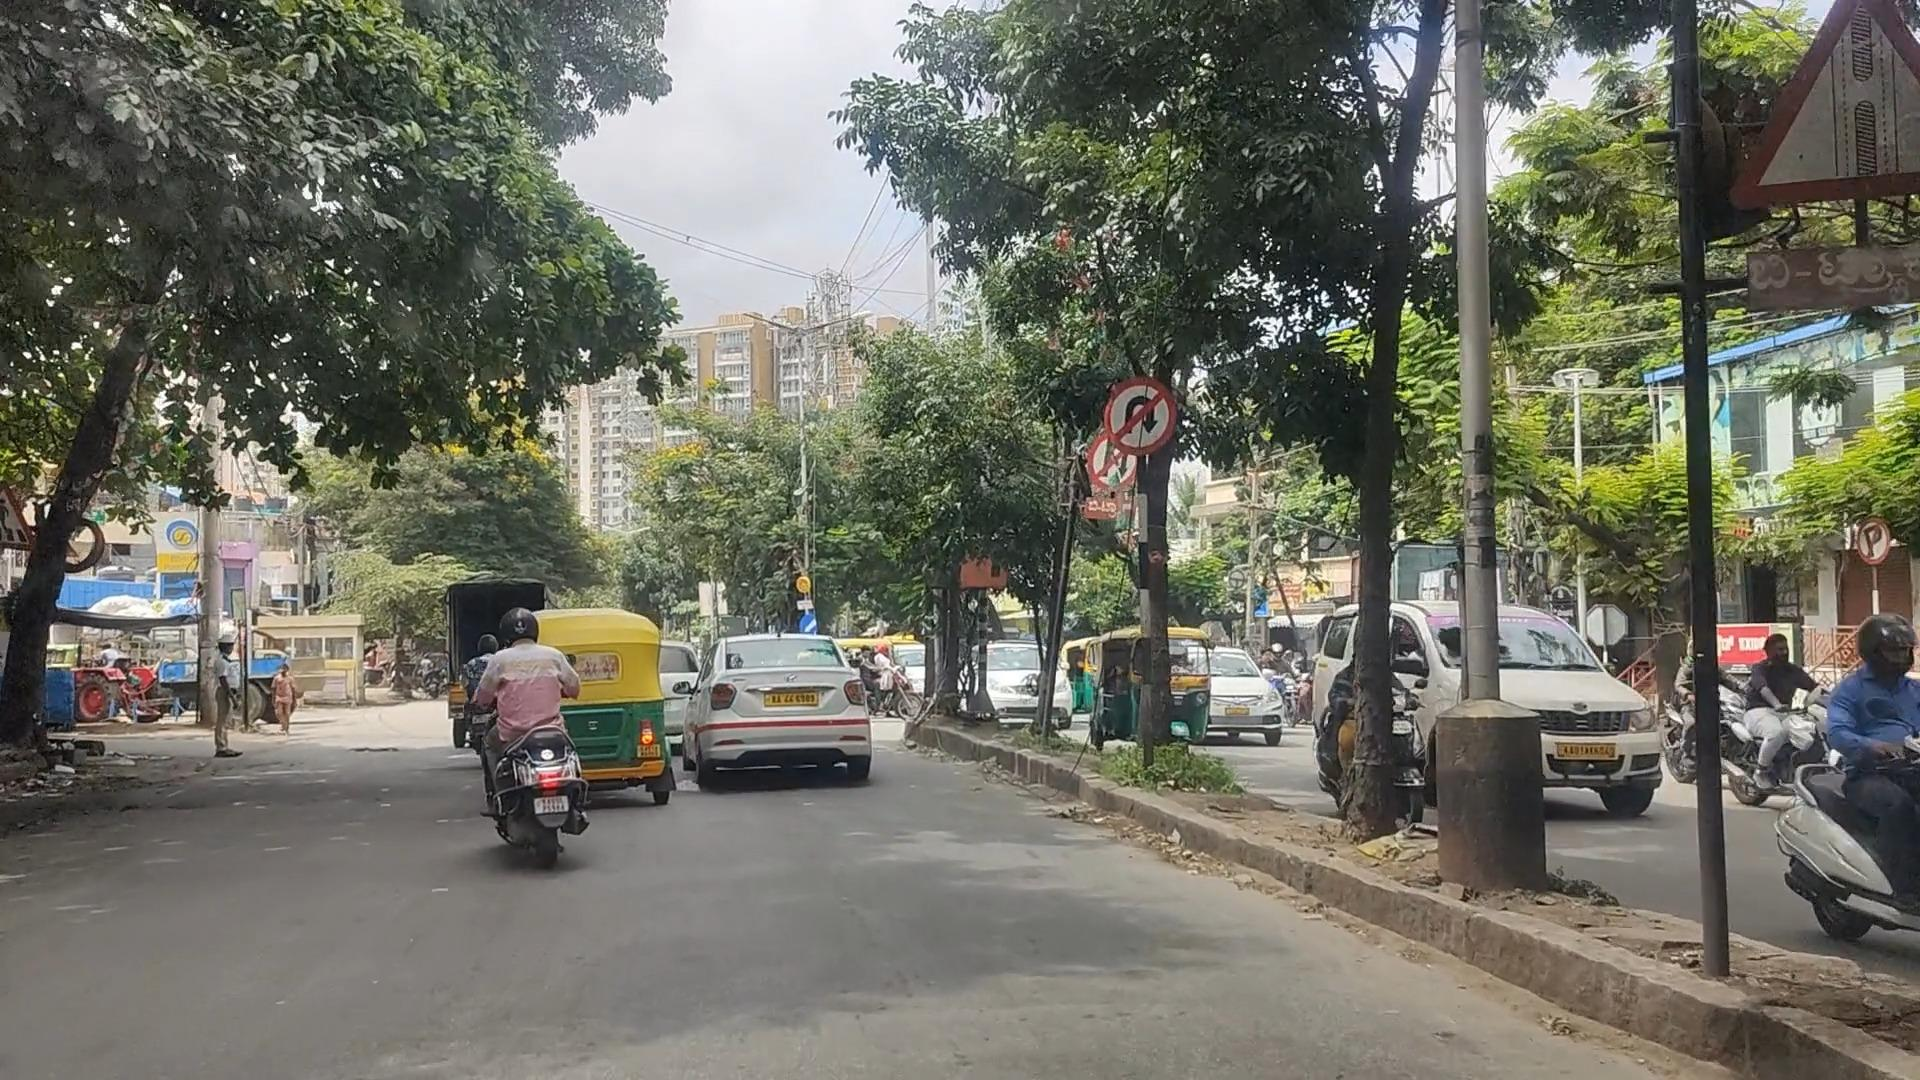LMV: (703, 630, 873, 799), (529, 622, 676, 799), (467, 633, 578, 831)
